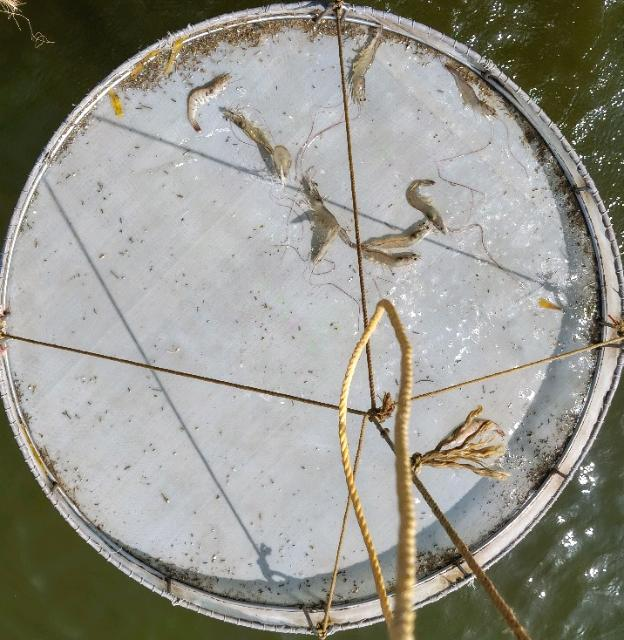shrimp: (302, 173, 357, 248), (443, 62, 496, 116), (187, 73, 232, 134), (223, 105, 274, 154), (350, 28, 382, 105), (407, 180, 448, 234), (360, 222, 436, 251), (313, 216, 338, 268), (363, 249, 422, 268), (273, 146, 292, 179)
